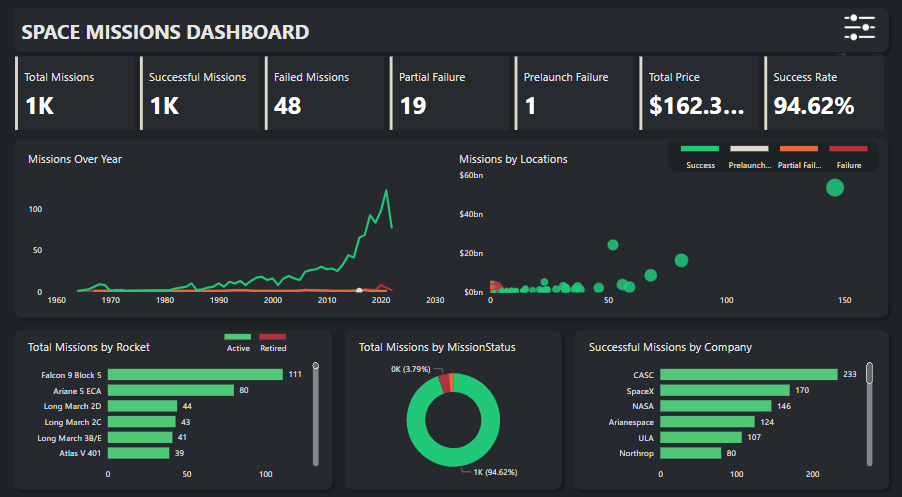

The page's visual inventory and layout, read from the dashboard file:
{"tool":"powerbi","page":{"name":"Page 2","canvas":[1280,720],"ordinal":1},"visuals":[{"type":"shape","box":[11.8,194.9,1256.5,270.4],"z":0},{"type":"shape","box":[11.8,465.3,468.7,243.6],"z":1000},{"type":"shape","box":[804.6,465.3,463.6,243.6],"z":2000},{"type":"shape","box":[480.4,465.3,324.2,243.6],"z":3000},{"type":"shape","title":"SPACE ","box":[11.5,8.2,1257.1,80.2],"z":4000},{"type":"lineChart","title":"Missions Over Year","fields":{"Category":["Date Table.Year"],"Y":["All Measures.Total Missions"],"Series":["Space Missions.MissionStatus"]},"box":[30.2,213.3,609.8,235.2],"z":5000},{"type":"scatterChart","title":"Missions by Locations","fields":{"X":["All Measures.Total Missions"],"Y":["All Measures.Total Price"],"Category":["Space Missions.Location"],"Series":["Space Missions.MissionStatus"],"Size":["All Measures.Successful Missions"]},"box":[640,213.3,609.8,235.2],"z":6000},{"type":"clusteredBarChart","fields":{"Category":["Space Missions.Rocket"],"Y":["All Measures.Total Missions"]},"box":[30.2,480.4,431.7,215],"z":7000},{"type":"donutChart","fields":{"Y":["All Measures.Total Missions"],"Category":["Space Missions.MissionStatus"]},"box":[498.9,480.4,287.2,215],"z":8000},{"type":"clusteredBarChart","fields":{"Category":["Space Missions.Company"],"Y":["All Measures.Successful Missions"]},"box":[824.8,480.4,421.6,215],"z":9000},{"type":"shape","box":[936.9,195.6,313.2,59.5],"z":10000},{"type":"clusteredColumnChart","fields":{"Category":["Space Missions.RocketStatus"],"Y":["All Measures.Legend"]},"box":[263.7,465.3,198.2,52.1],"z":11000},{"type":"cardVisual","fields":{"Data":["All Measures.Total Missions","All Measures.Successful Missions","All Measures.Failed Missions","All Measures.Partial Failure","All Measures.Prelaunch Failure","All Measures.Total Price","All Measures.Success Rate"]},"box":[11.8,80.6,1256.5,114.2],"z":12000},{"type":"image","title":"Filter icon","box":[1173.5,4.3,90.7,86.5],"z":15000},{"type":"clusteredColumnChart","fields":{"Category":["Space Missions.MissionStatus"],"Y":["All Measures.Legend"]},"box":[917,198.4,352.9,56.7],"z":16000}]}

Visuals, with their boxes in screenshot pixels (x1, y1, x2, y2), scaled from the page's 1280x720 canvas onto the 902x497 screenshot:
shape: [8,135,894,321]
shape: [8,321,339,489]
shape: [567,321,894,489]
shape: [339,321,567,489]
"SPACE " shape: [8,6,894,61]
"Missions Over Year" lineChart: [21,147,451,310]
"Missions by Locations" scatterChart: [451,147,881,310]
clusteredBarChart - Space Missions.Rocket x All Measures.Total Missions: [21,332,325,480]
donutChart - All Measures.Total Missions x Space Missions.MissionStatus: [352,332,554,480]
clusteredBarChart - Space Missions.Company x All Measures.Successful Missions: [581,332,878,480]
shape: [660,135,881,176]
clusteredColumnChart - Space Missions.RocketStatus x All Measures.Legend: [186,321,325,357]
cardVisual - All Measures.Total Missions x All Measures.Successful Missions: [8,56,894,134]
"Filter icon" image: [827,3,891,63]
clusteredColumnChart - Space Missions.MissionStatus x All Measures.Legend: [646,137,895,176]
